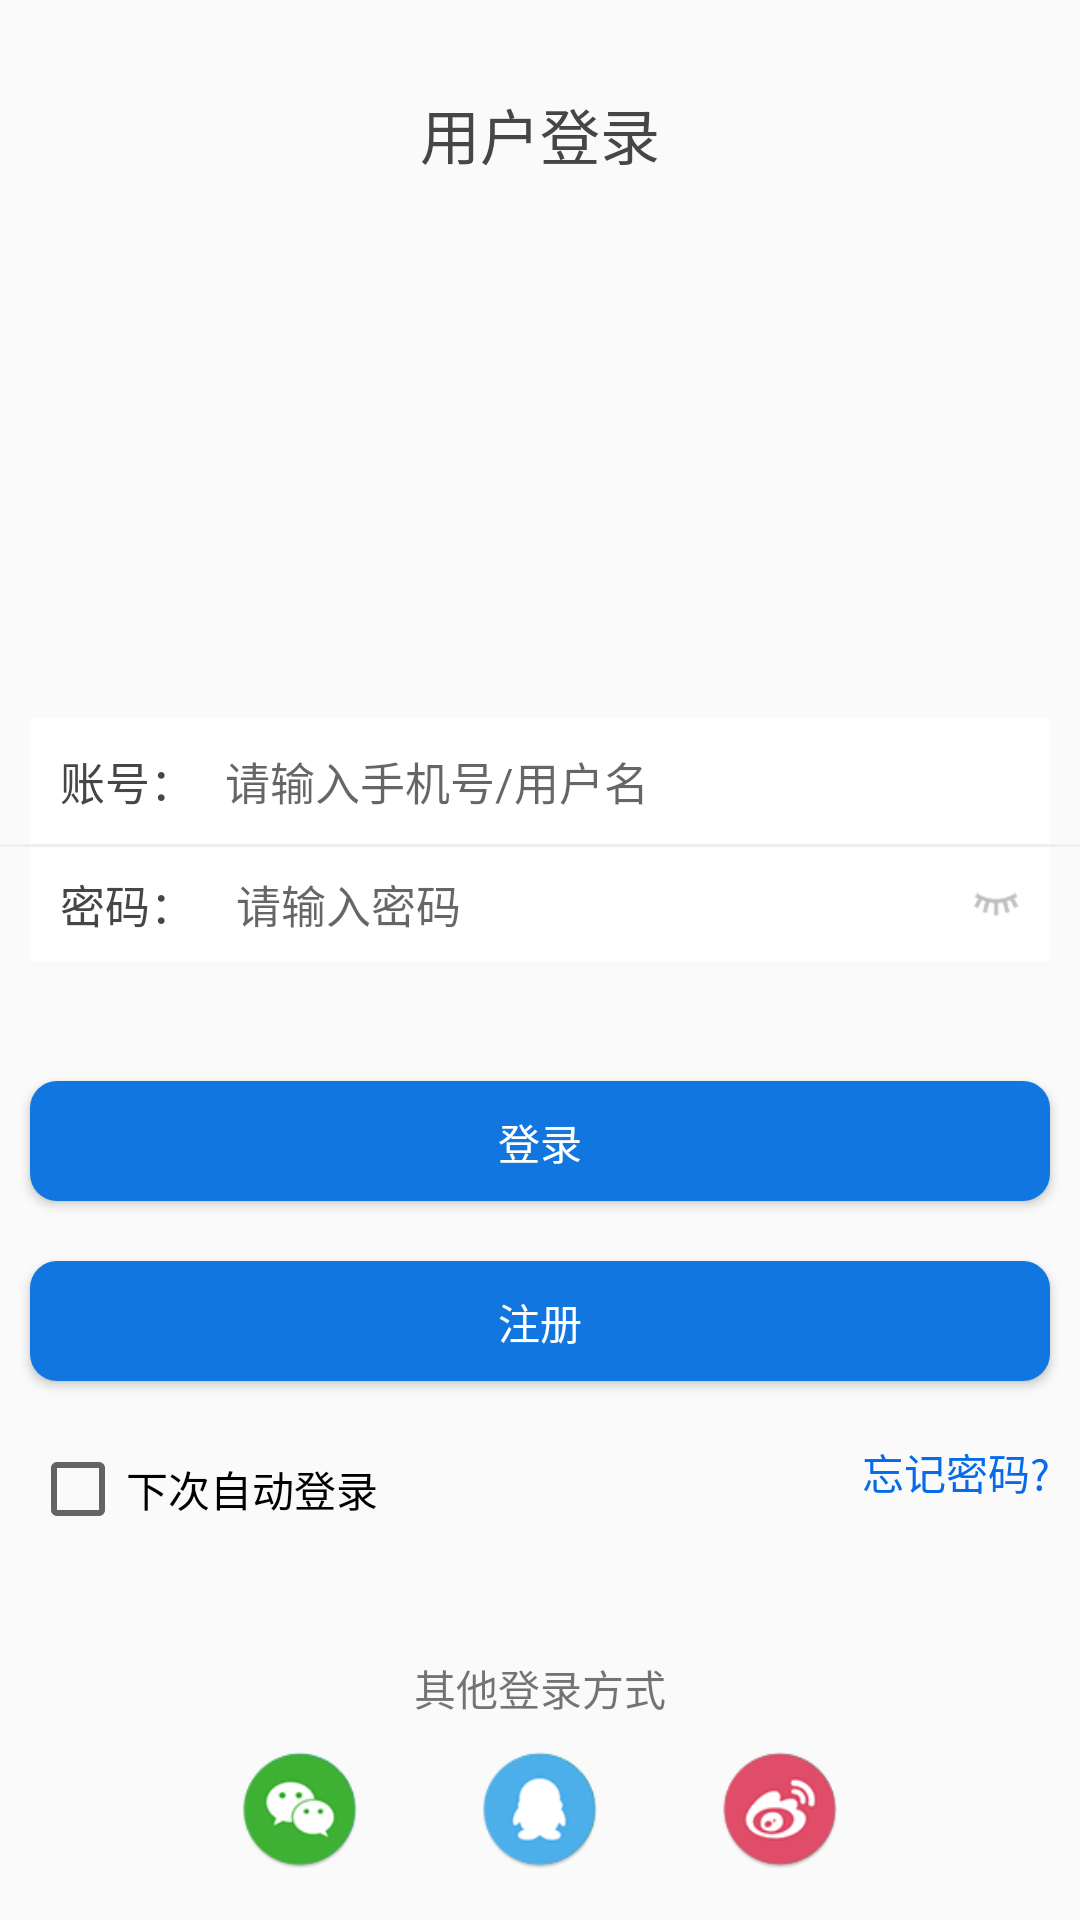

Named icons in this screenshot (1080×1920) and their centers, [x,y]:
password invisible: [996,904]
